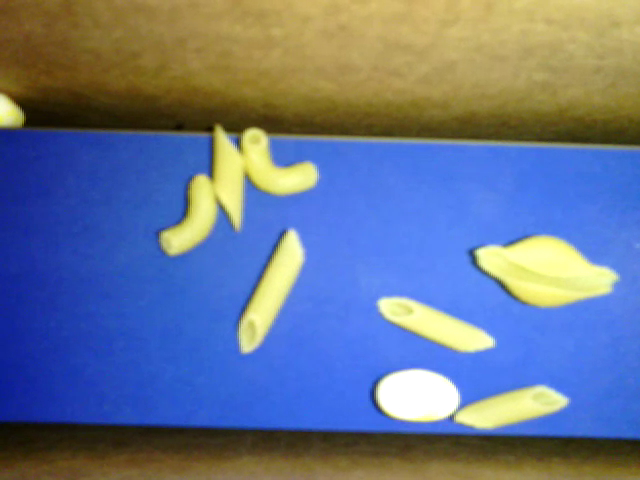elbow: (242, 126, 320, 195), (158, 173, 217, 256)
penne: (238, 228, 306, 354), (377, 295, 496, 353), (454, 384, 571, 428), (213, 124, 244, 231)
shell: (474, 234, 618, 308)
